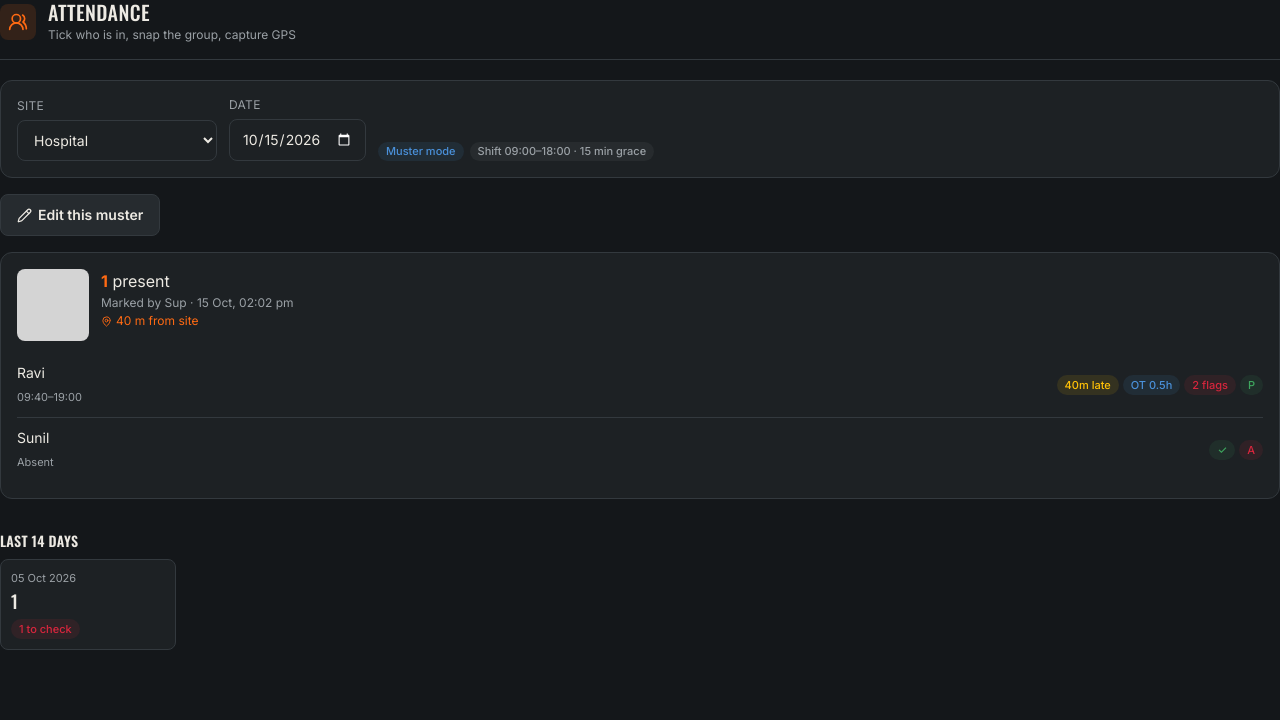
Scenario: interactive paths render › Attendance muster form opens and asks for a live crew photo
Click the button "Edit this muster" at (80, 215), box [0, 194, 160, 236]
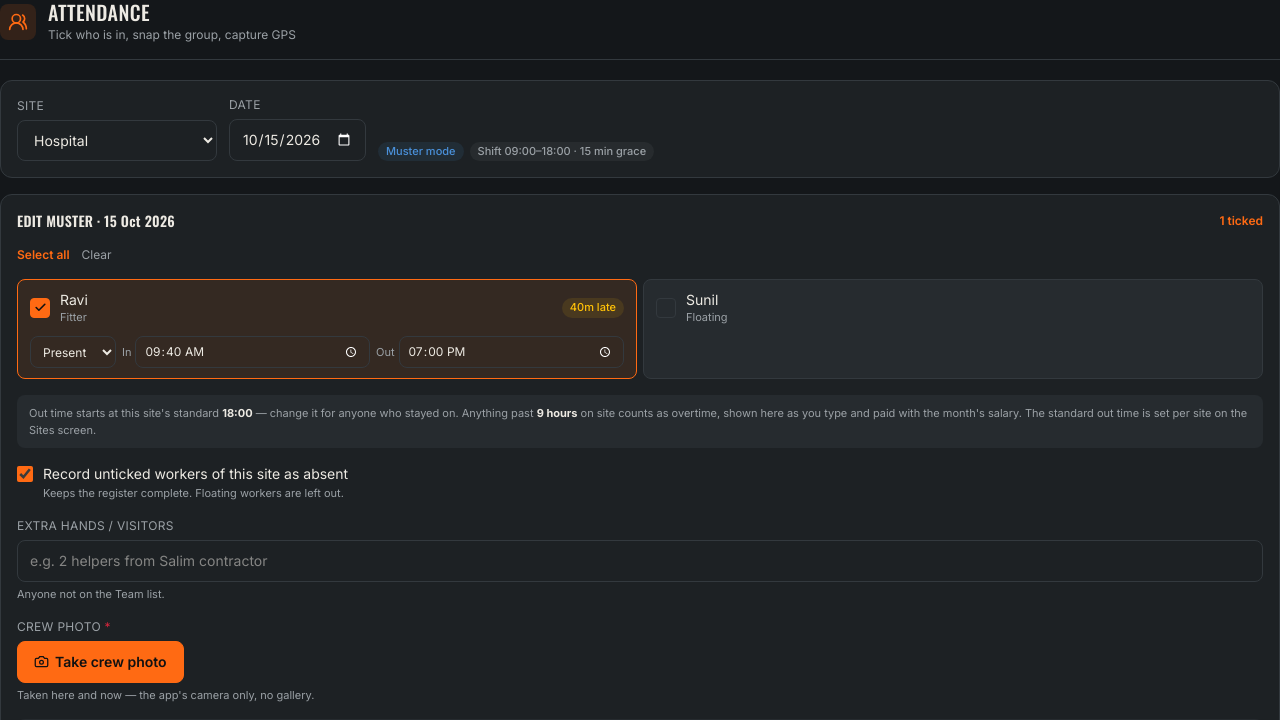
Expected: the text "Take crew photo" is shown, [17, 640, 184, 682]
